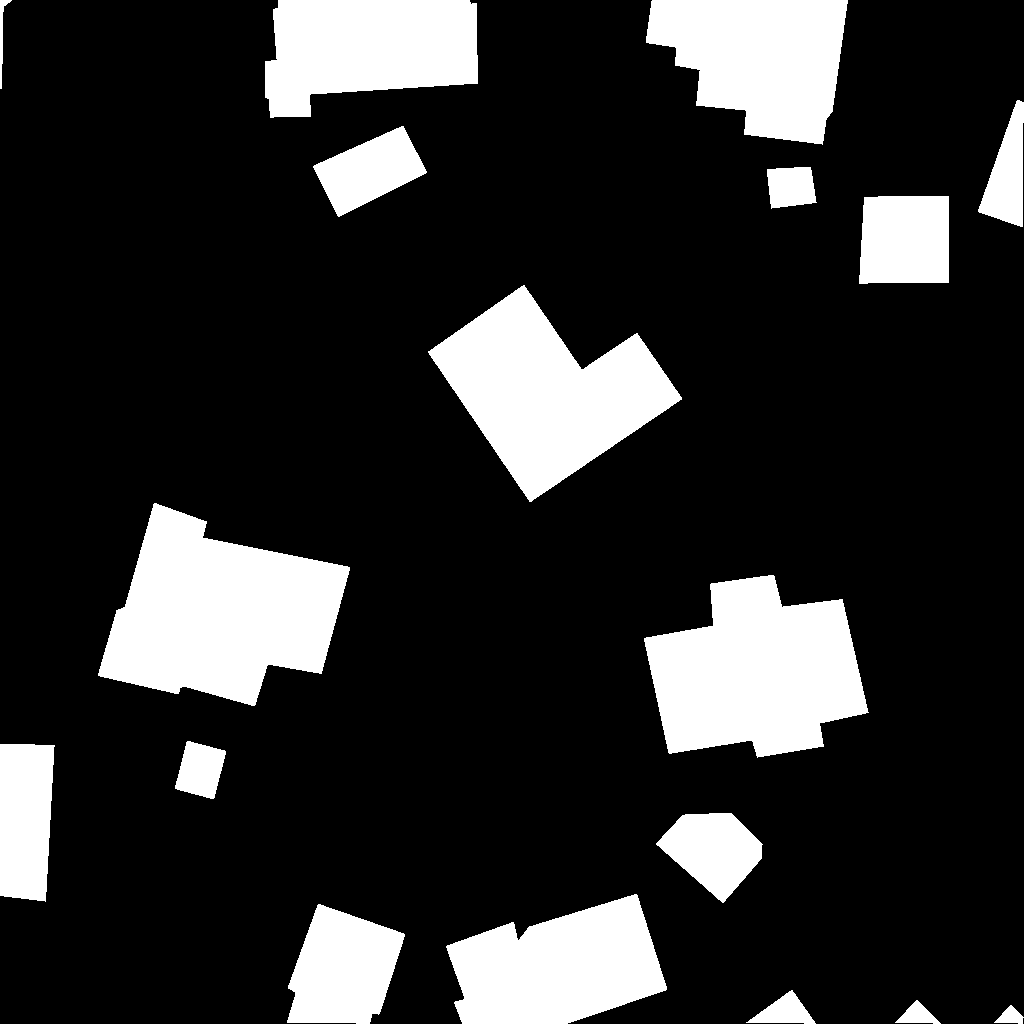building: (428, 285, 683, 503), (98, 503, 351, 707), (644, 575, 869, 758), (646, 0, 849, 145), (446, 894, 668, 1024), (265, 0, 479, 118), (287, 904, 406, 1024), (313, 126, 428, 218), (656, 813, 763, 904), (0, 744, 55, 902), (859, 196, 950, 284), (978, 100, 1024, 228), (895, 1000, 1024, 1024), (175, 741, 227, 800), (746, 990, 817, 1024), (767, 167, 817, 209), (0, 0, 14, 90)
